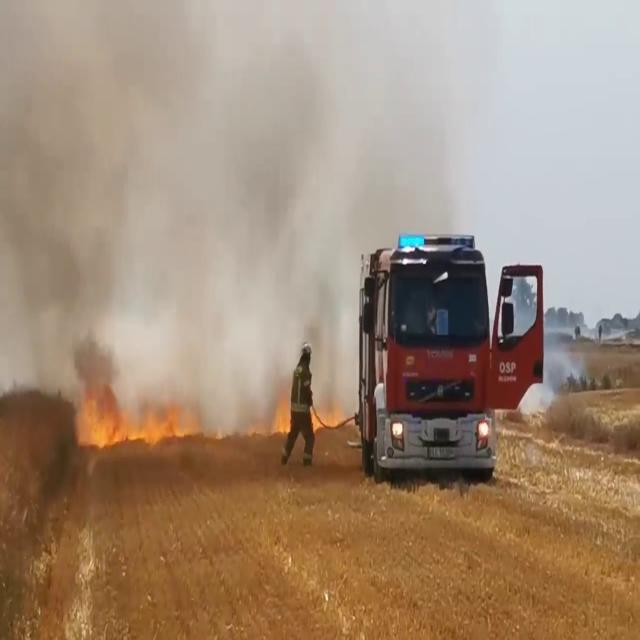Fire: (71, 374, 204, 455), (270, 388, 292, 439), (314, 401, 346, 433)
Smoke: (0, 0, 354, 400)
